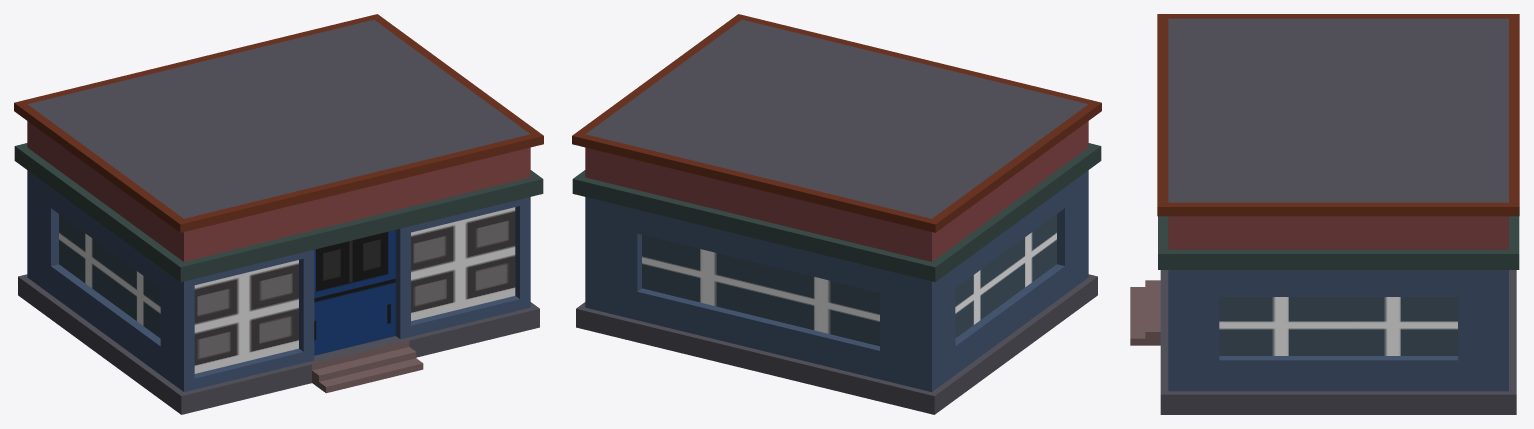
File: building13a.FBX
The picture shows the model from 3 angles, left to right: view 1: azimuth 30°, elevation 25°; view 2: azimuth 150°, elevation 25°; view 3: azimuth 270°, elevation 25°; orthographic projection. The views are drawn at different scales.
Visible parts, largest first — view 1: building13a; view 2: building13a; view 3: building13a.
Part boxes in pixels (<box>): building13a: <box>14,14,543,414</box>; building13a: <box>572,14,1101,414</box>; building13a: <box>1130,14,1519,414</box>.
Size of the model in its own units: 16.08 by 8.12 by 13.71.
